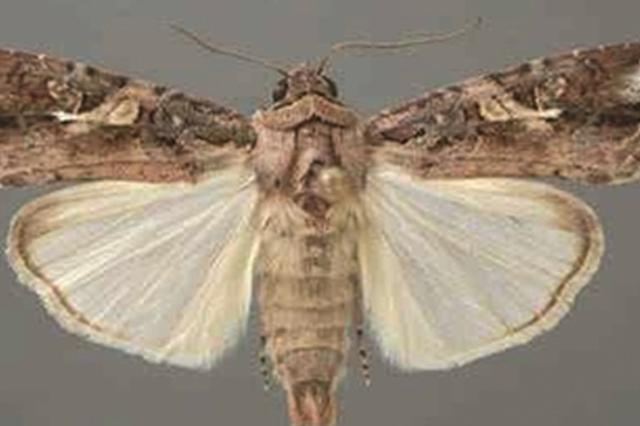feie: (3, 30, 640, 383)
